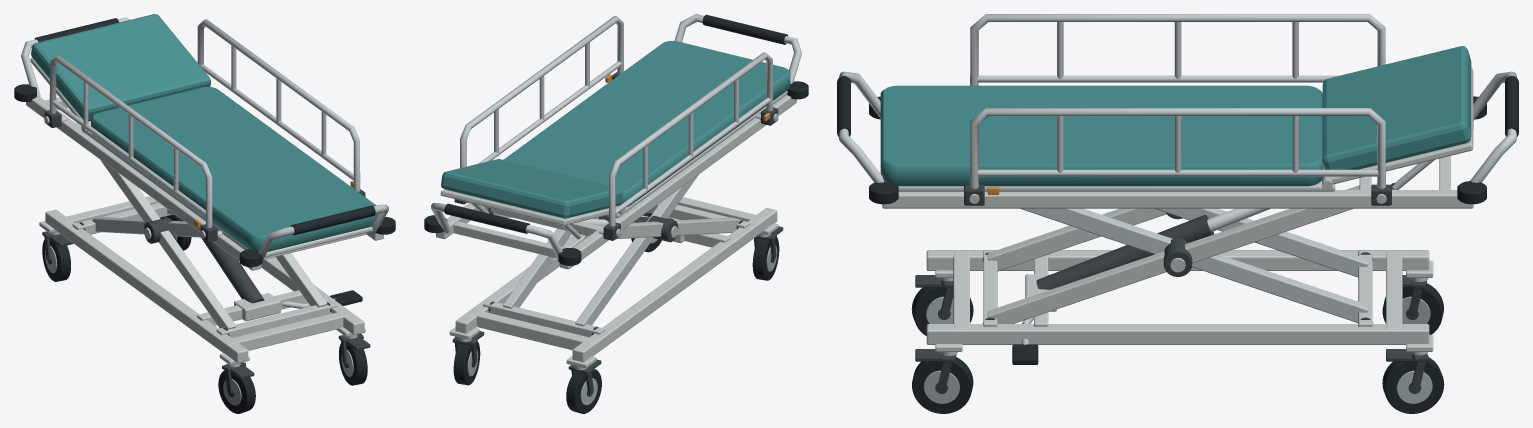
File: city-transfer-stretcher-trolley.glb
3 renders of one model, left to right at view 1: azimuth 30°, elevation 25°; view 2: azimuth 150°, elevation 25°; view 3: azimuth 270°, elevation 25°, orthographic. The views are drawn at different scales.
Parts seen in each view (by area): view 1: Assembly | Muted teal woven textile, Assembly | Warm grey frame enamel, Assembly | Brushed satin aluminum, Assembly | Charcoal rubber wheels and grips, Assembly | Graphite frame fittings, Assembly | Pale caster hubs; view 2: Assembly | Muted teal woven textile, Assembly | Warm grey frame enamel, Assembly | Brushed satin aluminum, Assembly | Charcoal rubber wheels and grips, Assembly | Graphite frame fittings, Assembly | Pale caster hubs; view 3: Assembly | Muted teal woven textile, Assembly | Warm grey frame enamel, Assembly | Brushed satin aluminum, Assembly | Charcoal rubber wheels and grips, Assembly | Graphite frame fittings, Assembly | Pale caster hubs, Assembly | Polished support piston.
Part boxes in pixels (bbox=[...]): Assembly | Muted teal woven textile: bbox=[31, 14, 377, 251]; Assembly | Warm grey frame enamel: bbox=[26, 58, 383, 365]; Assembly | Brushed satin aluminum: bbox=[21, 17, 388, 367]; Assembly | Charcoal rubber wheels and grips: bbox=[14, 18, 395, 413]; Assembly | Graphite frame fittings: bbox=[42, 110, 370, 396]; Assembly | Pale caster hubs: bbox=[45, 236, 353, 405]; Assembly | Muted teal woven textile: bbox=[441, 41, 790, 218]; Assembly | Warm grey frame enamel: bbox=[436, 91, 796, 368]; Assembly | Brushed satin aluminum: bbox=[431, 14, 801, 370]; Assembly | Charcoal rubber wheels and grips: bbox=[424, 14, 808, 413]; Assembly | Graphite frame fittings: bbox=[452, 72, 783, 396]; Assembly | Pale caster hubs: bbox=[467, 238, 777, 405]; Assembly | Muted teal woven textile: bbox=[880, 46, 1471, 186]; Assembly | Warm grey frame enamel: bbox=[882, 67, 1473, 351]; Assembly | Brushed satin aluminum: bbox=[839, 14, 1516, 355]; Assembly | Charcoal rubber wheels and grips: bbox=[837, 76, 1518, 413]; Assembly | Graphite frame fittings: bbox=[915, 183, 1429, 393]; Assembly | Pale caster hubs: bbox=[923, 296, 1432, 403]; Assembly | Polished support piston: bbox=[1207, 208, 1270, 231].
Bounding box in the file's own units: 0.8315 × 1.09 × 2.14.
